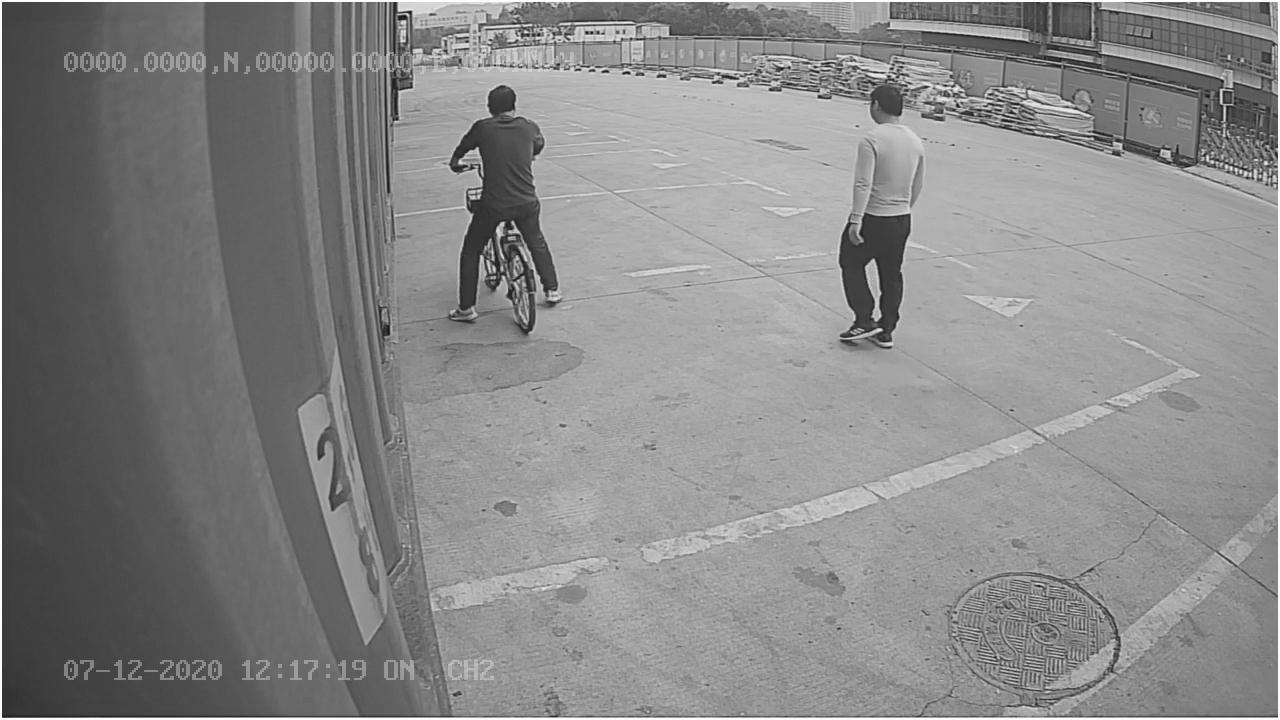person: (837, 78, 929, 358)
